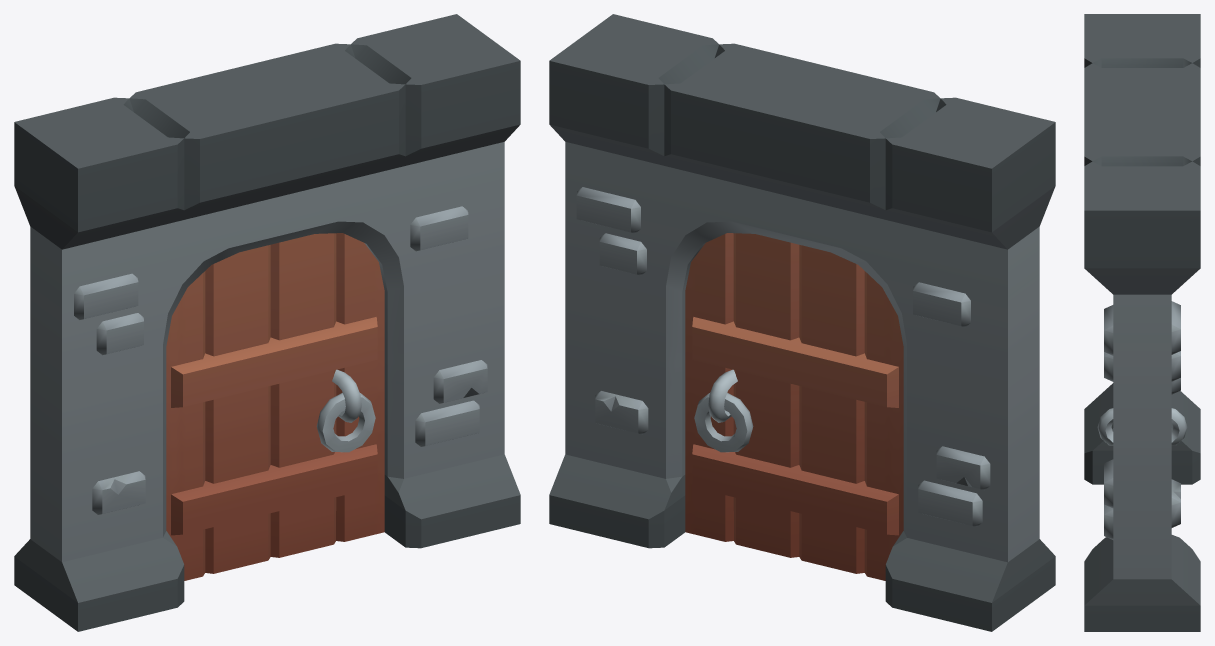
The model's file is wall_doorway.glb.
3 renders of one model, left to right at view 1: azimuth 30°, elevation 25°; view 2: azimuth 150°, elevation 25°; view 3: azimuth 270°, elevation 25°, orthographic. The views are drawn at different scales.
Parts seen in each view (by area): view 1: wall_doorway, wall_doorway_door; view 2: wall_doorway, wall_doorway_door; view 3: wall_doorway, wall_doorway_door.
Boxes of the visible parts, <box> form: wall_doorway: <box>14,14,520,631</box>; wall_doorway_door: <box>166,233,384,580</box>; wall_doorway: <box>549,14,1055,631</box>; wall_doorway_door: <box>685,233,903,580</box>; wall_doorway: <box>1084,14,1200,631</box>; wall_doorway_door: <box>1097,408,1187,445</box>.
Bounding box in the file's own units: 4 × 4 × 1.
1 material, 1 textured.
